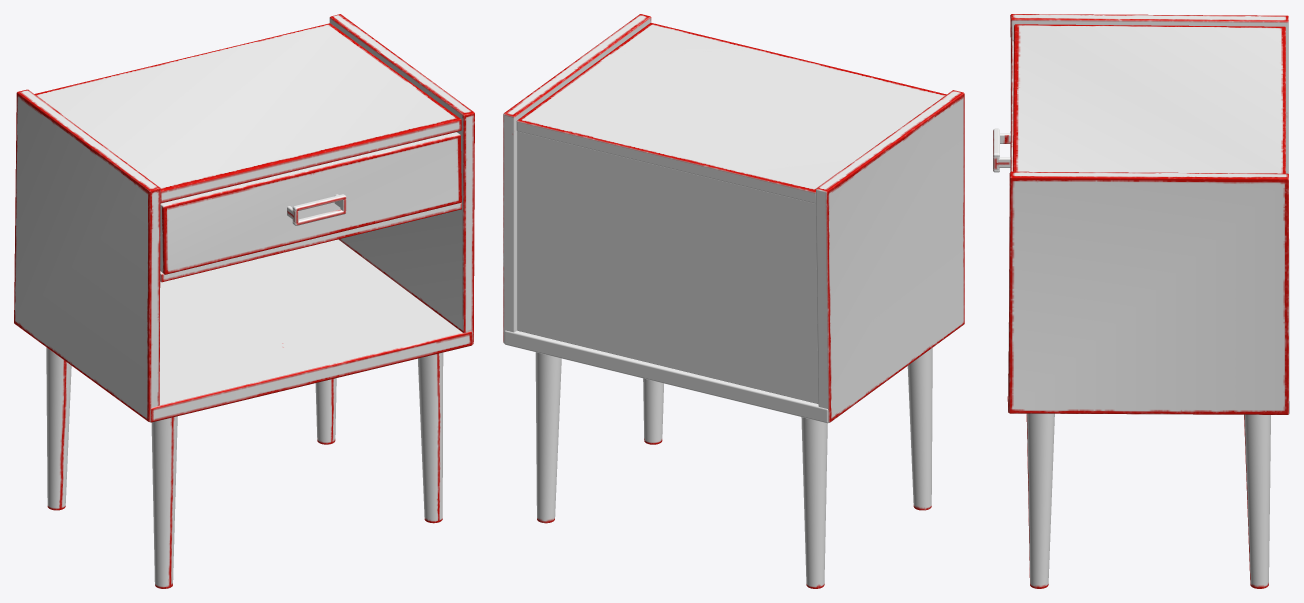
Rendered from mesa-de-cabeceira.glb.
3 renders of one model, left to right at view 1: azimuth 30°, elevation 25°; view 2: azimuth 150°, elevation 25°; view 3: azimuth 270°, elevation 25°, orthographic. The views are drawn at different scales.
Parts seen in each view (by area): view 1: Tampo_Branco, Lateral_Esquerda_Branco, Base_do_Nicho_Branco, Gaveta_Branco, Lateral_Direita_Branco, Pe_Frontal_Esquerdo_Branco, Pe_Frontal_Direito_Branco, Pe_Traseiro_Esquerdo_Branco, Prateleira_sob_Gaveta_Branco, Pe_Traseiro_Direito_Branco, Puxador_da_Gaveta_Branco; view 2: Painel_Traseiro_Branco, Tampo_Branco, Lateral_Esquerda_Branco, Base_do_Nicho_Branco, Lateral_Direita_Branco, Pe_Traseiro_Esquerdo_Branco, Pe_Traseiro_Direito_Branco, Pe_Frontal_Esquerdo_Branco, Pe_Frontal_Direito_Branco; view 3: Lateral_Direita_Branco, Tampo_Branco, Pe_Frontal_Direito_Branco, Pe_Traseiro_Direito_Branco, Lateral_Esquerda_Branco, Puxador_da_Gaveta_Branco, Gaveta_Branco.
Boxes of the visible parts, bbox=[...] form: Tampo_Branco: bbox=[34, 23, 461, 203]; Lateral_Esquerda_Branco: bbox=[14, 89, 160, 422]; Base_do_Nicho_Branco: bbox=[150, 239, 472, 422]; Gaveta_Branco: bbox=[160, 132, 461, 274]; Lateral_Direita_Branco: bbox=[329, 14, 474, 343]; Pe_Frontal_Esquerdo_Branco: bbox=[151, 416, 177, 588]; Pe_Frontal_Direito_Branco: bbox=[418, 352, 443, 523]; Pe_Traseiro_Esquerdo_Branco: bbox=[46, 347, 71, 510]; Prateleira_sob_Gaveta_Branco: bbox=[160, 202, 461, 282]; Pe_Traseiro_Direito_Branco: bbox=[315, 378, 336, 444]; Puxador_da_Gaveta_Branco: bbox=[287, 194, 346, 225]; Painel_Traseiro_Branco: bbox=[517, 131, 818, 403]; Tampo_Branco: bbox=[516, 23, 946, 203]; Lateral_Esquerda_Branco: bbox=[816, 90, 964, 422]; Base_do_Nicho_Branco: bbox=[504, 330, 828, 423]; Lateral_Direita_Branco: bbox=[503, 14, 651, 343]; Pe_Traseiro_Esquerdo_Branco: bbox=[801, 417, 827, 588]; Pe_Traseiro_Direito_Branco: bbox=[535, 352, 561, 523]; Pe_Frontal_Esquerdo_Branco: bbox=[907, 348, 932, 510]; Pe_Frontal_Direito_Branco: bbox=[643, 378, 663, 444]; Lateral_Direita_Branco: bbox=[1008, 171, 1288, 414]; Tampo_Branco: bbox=[1013, 24, 1285, 173]; Pe_Frontal_Direito_Branco: bbox=[1026, 413, 1054, 588]; Pe_Traseiro_Direito_Branco: bbox=[1244, 414, 1270, 588]; Lateral_Esquerda_Branco: bbox=[1010, 14, 1288, 173]; Puxador_da_Gaveta_Branco: bbox=[993, 128, 1010, 172]; Gaveta_Branco: bbox=[1010, 41, 1013, 171].
Size of the model in its own units: 0.5 by 0.6012 by 0.3825.
Materials: 1 (1 with a texture image).
